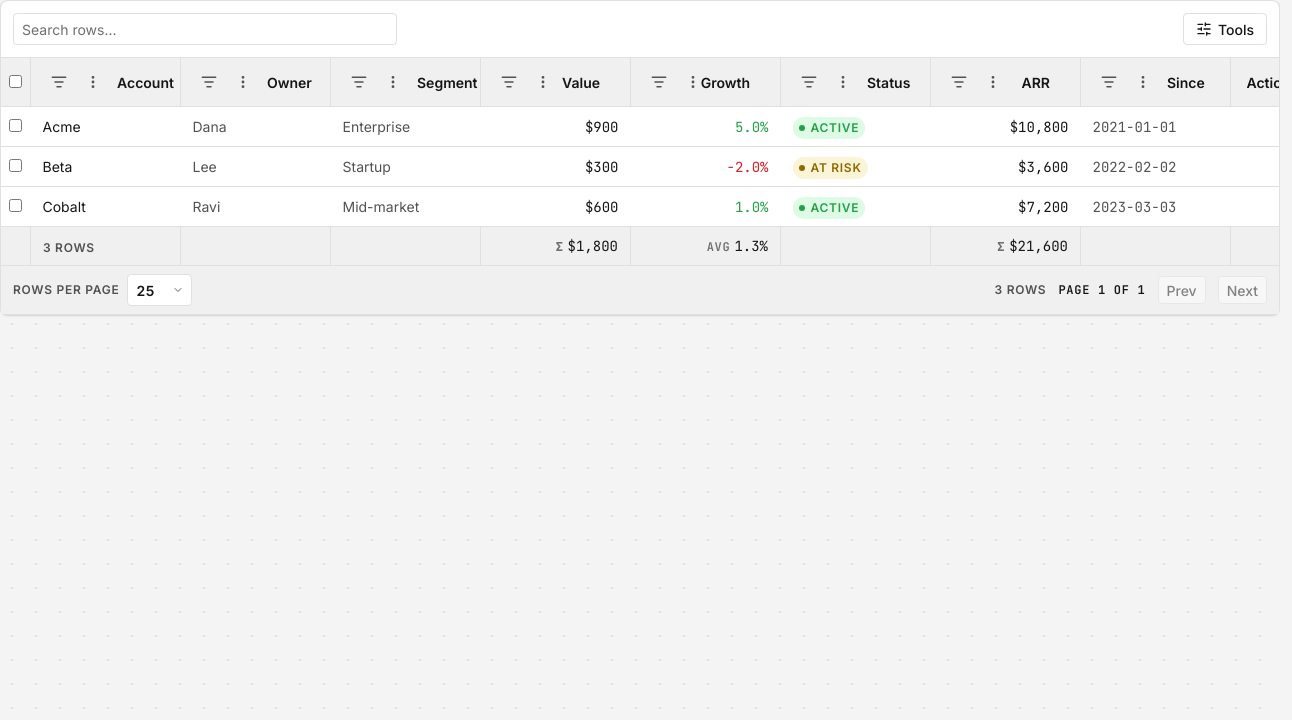
DataGrid row selection › per-row checkbox selects a row and surfaces the bulk-action count
Click the checkbox named "Select Acme" at [16, 126], box [9,119,22,132]
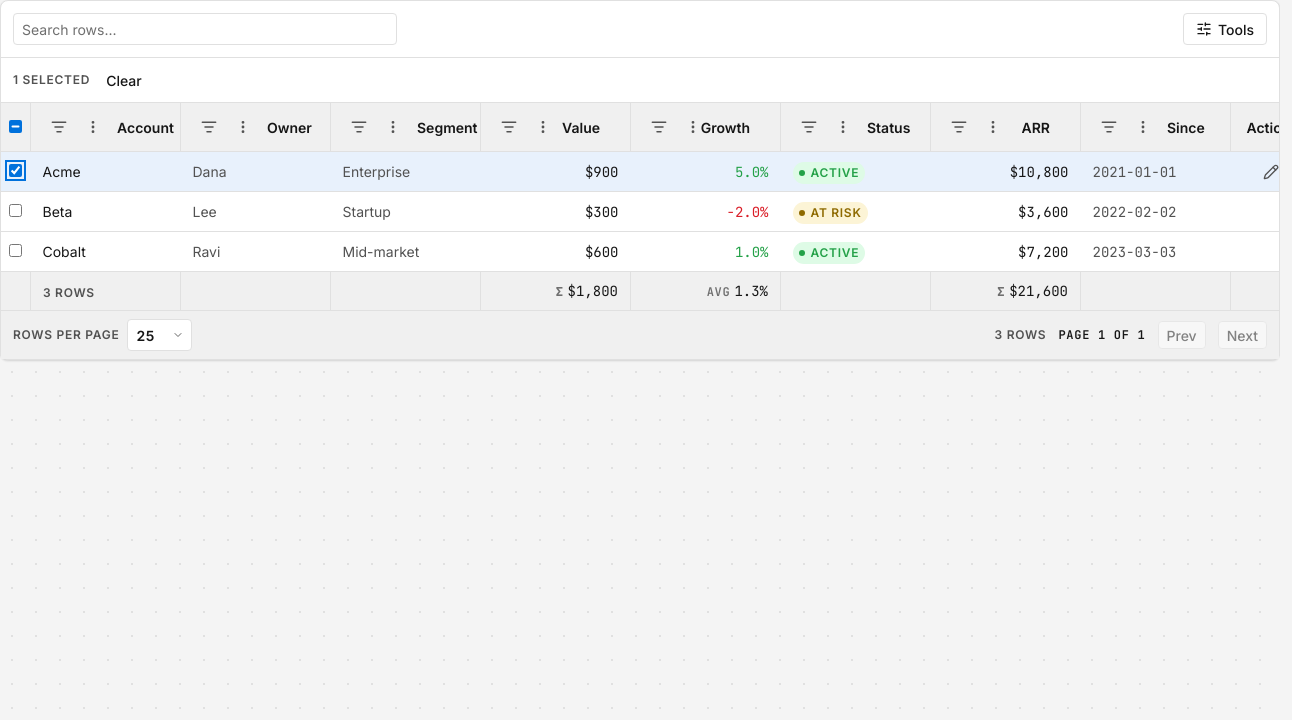
Now the checkbox named "Select Acme" is checked, box [9,164,22,177]
Now the text "1 selected" is shown, box [13,71,90,89]
